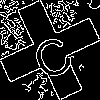C: (25, 25, 77, 82)
